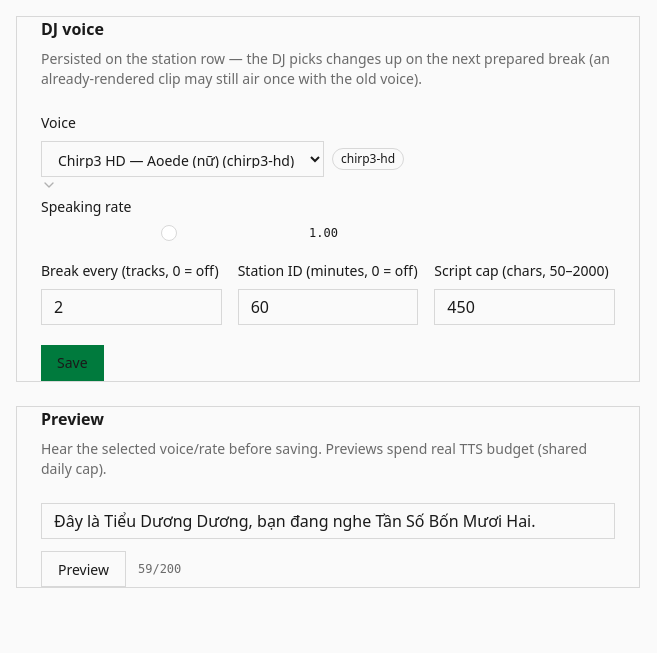
DJ › previews the selected voice and renders the player + fake badge
Expected: the dropdown labelled "Voice" shows "Chirp3 HD — Aoede (nữ) (chirp3-hd)", [41,141,324,177]
Click the button "Preview". click: [83, 569]
box: [41,551,126,587]
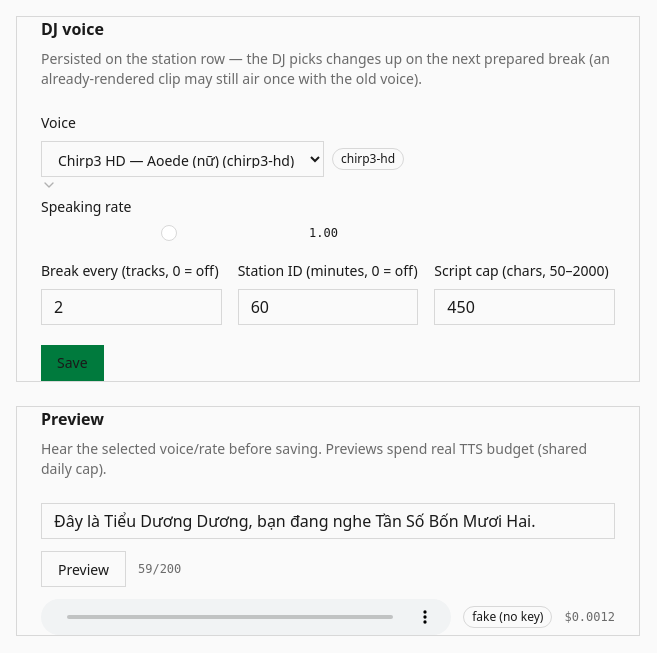
Expected: the text "fake (no key)" is shown, [463,606,552,628]
